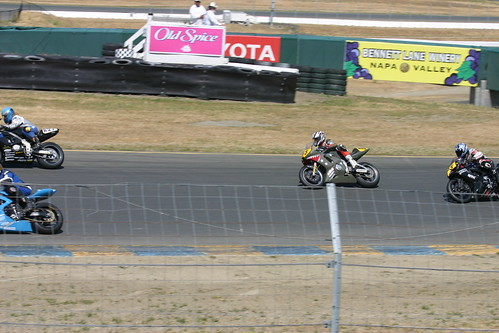helmet: (451, 137, 469, 157), (0, 100, 14, 122), (308, 126, 325, 143)
